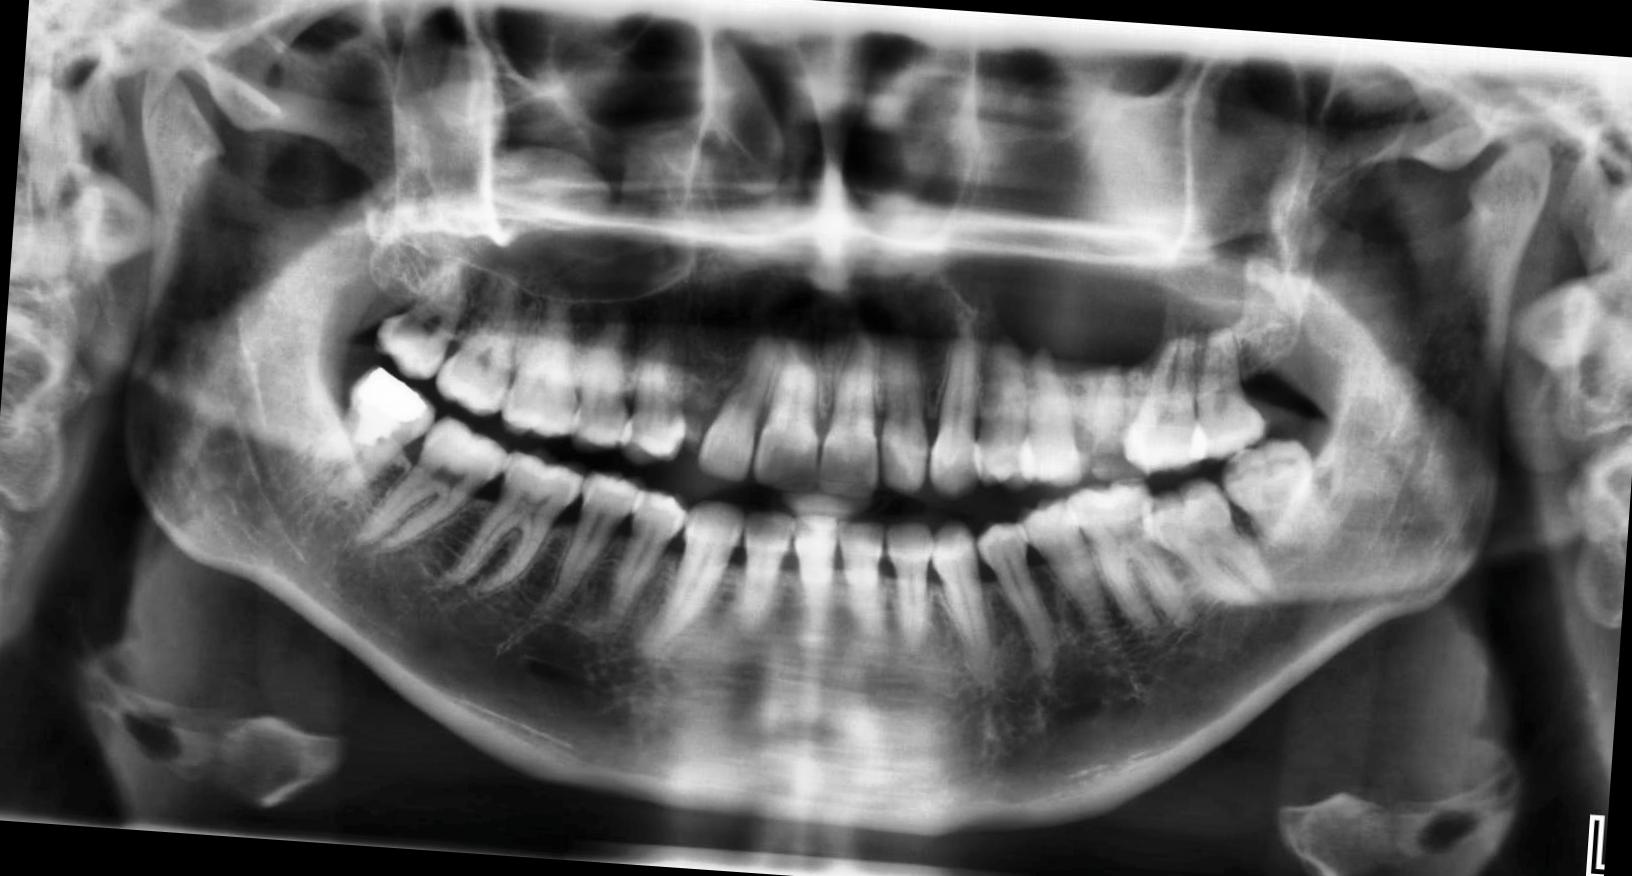radikuler: (927, 130, 1190, 372)
